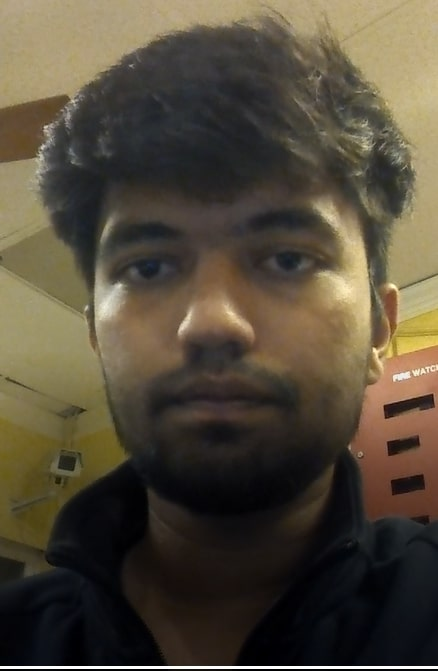Not Sleeping: (97, 224, 353, 296)
